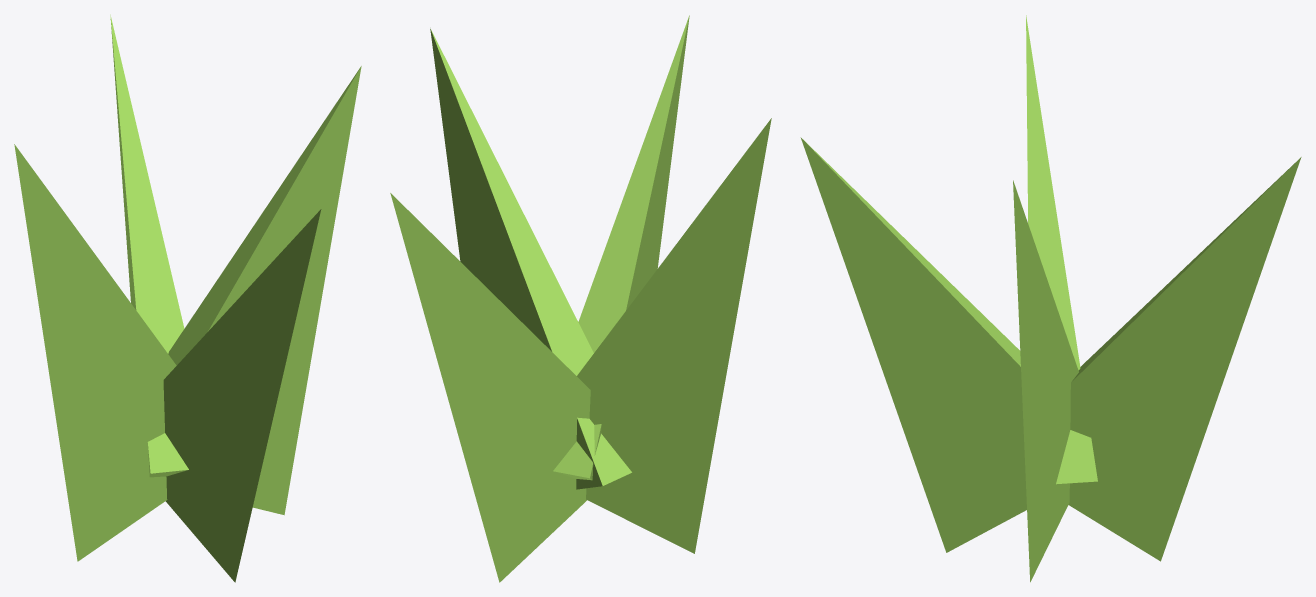
The model's file is palmtree-1.glb.
3 renders of one model, left to right at view 1: azimuth 30°, elevation 25°; view 2: azimuth 150°, elevation 25°; view 3: azimuth 270°, elevation 25°, orthographic. The views are drawn at different scales.
Visible parts, largest first — view 1: palmtree-1; view 2: palmtree-1; view 3: palmtree-1.
Part boxes in pixels (x1,y1,x2,y2): palmtree-1: [14, 14, 361, 582]; palmtree-1: [390, 15, 771, 582]; palmtree-1: [800, 15, 1301, 582].
Size of the model in its own units: 0.0748 by 0.0952 by 0.0958.
1 material, 1 textured.
